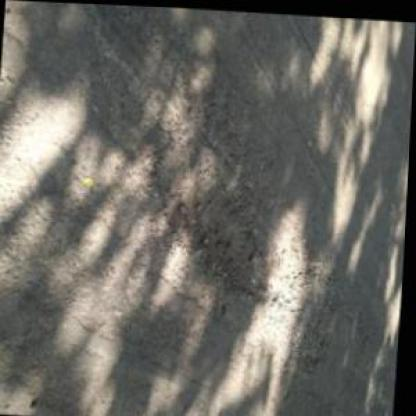pothole: (160, 162, 280, 304)
